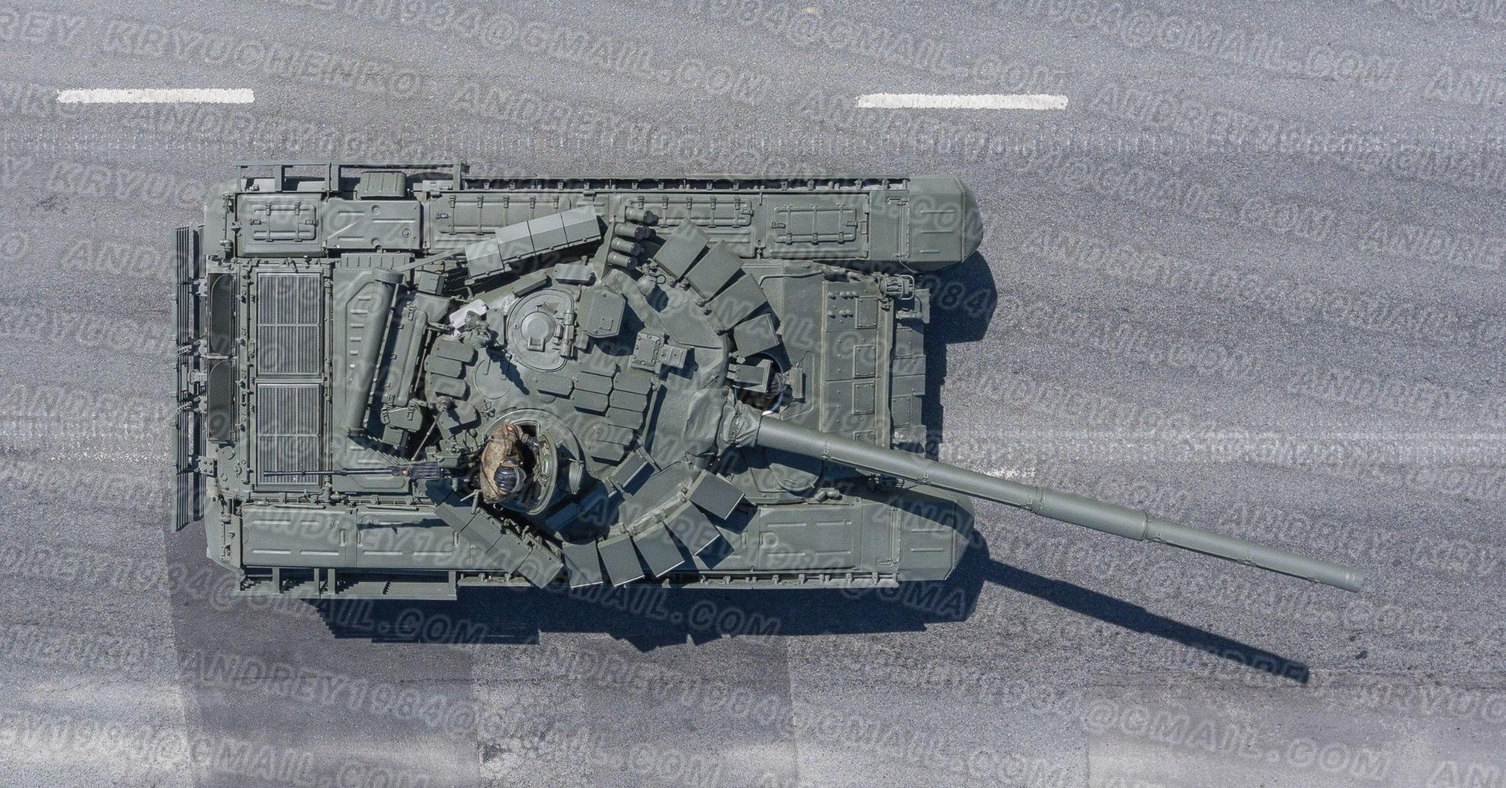tank: (144, 152, 1417, 685)
